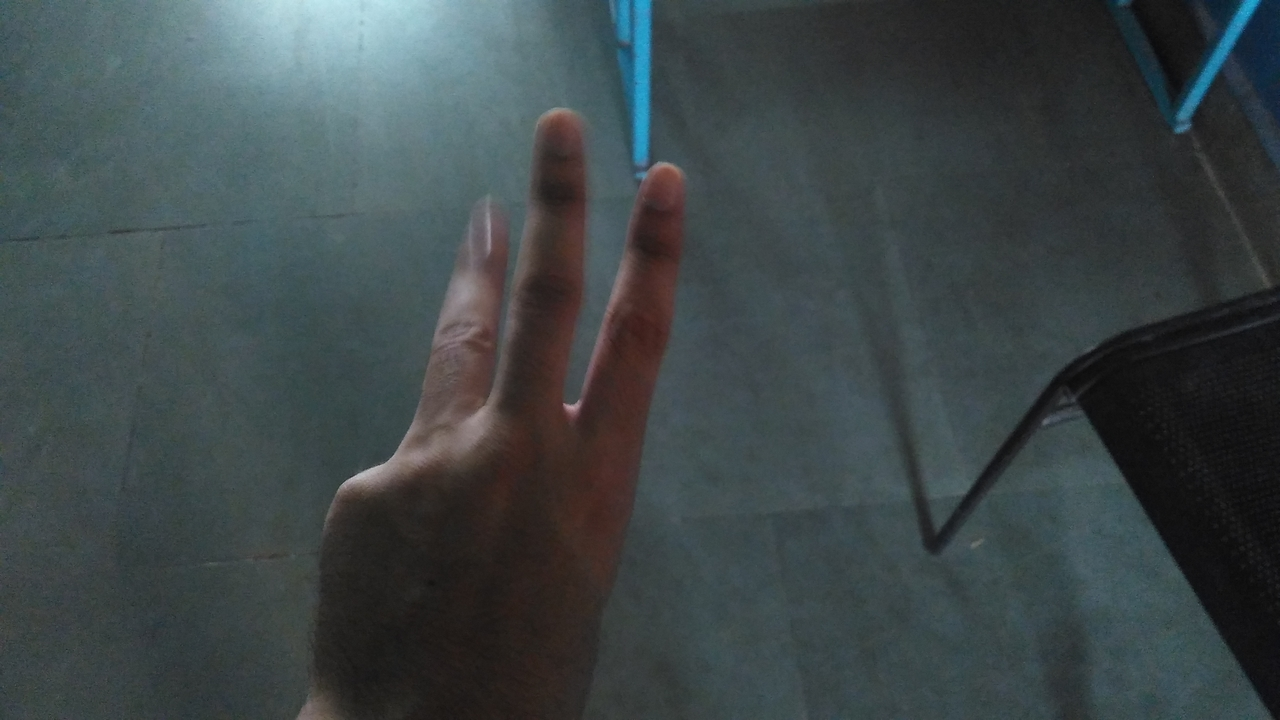fingertip: (440, 184, 512, 244), (628, 154, 694, 216), (526, 104, 588, 162)
